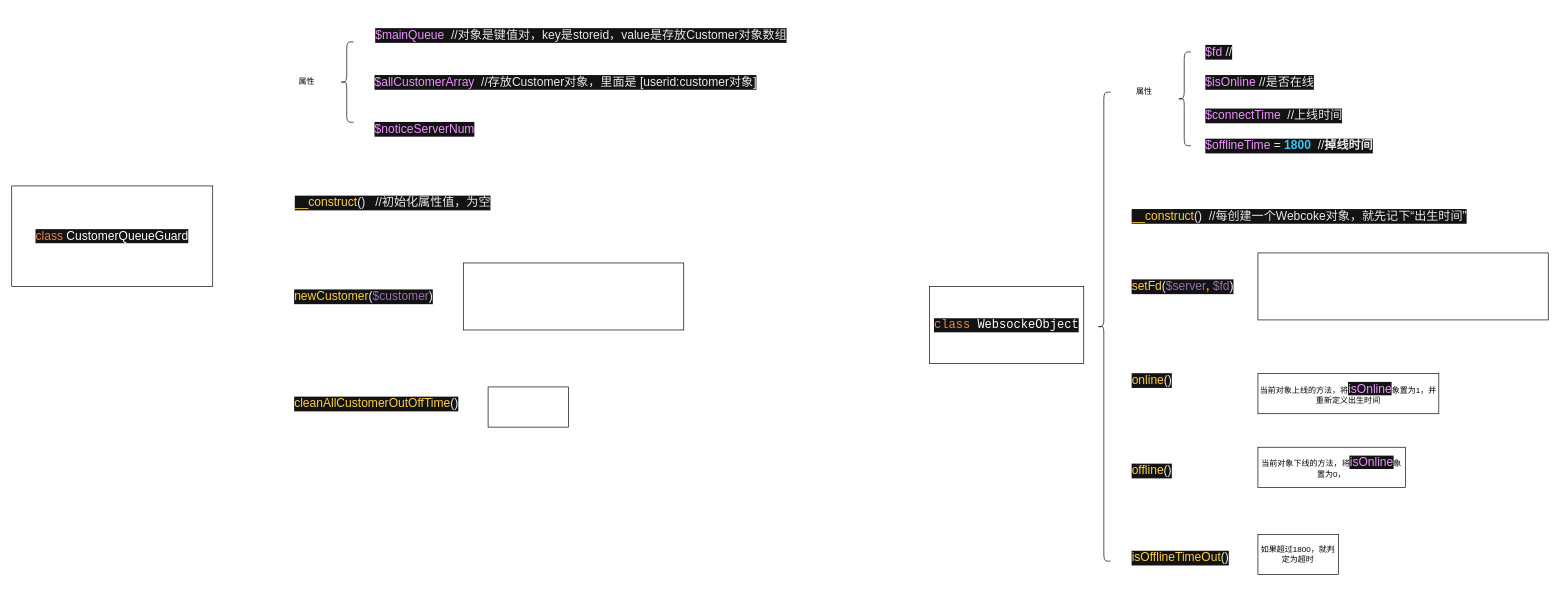
Some shapes in this 1560 by 592 pixel diagram are drawn without their labels. Here are the shapes that lost their labels. From the top down, the box of each, then its label:
(463, 262, 684, 330): 传进一个user对象,添加到 allCustomerArray 如果存在了就不再添加，
(1257, 252, 1548, 320): Fd设置，如果出现 $server 或者 $this -> fd != $fd ，判定为异常登录（TYPE12）
